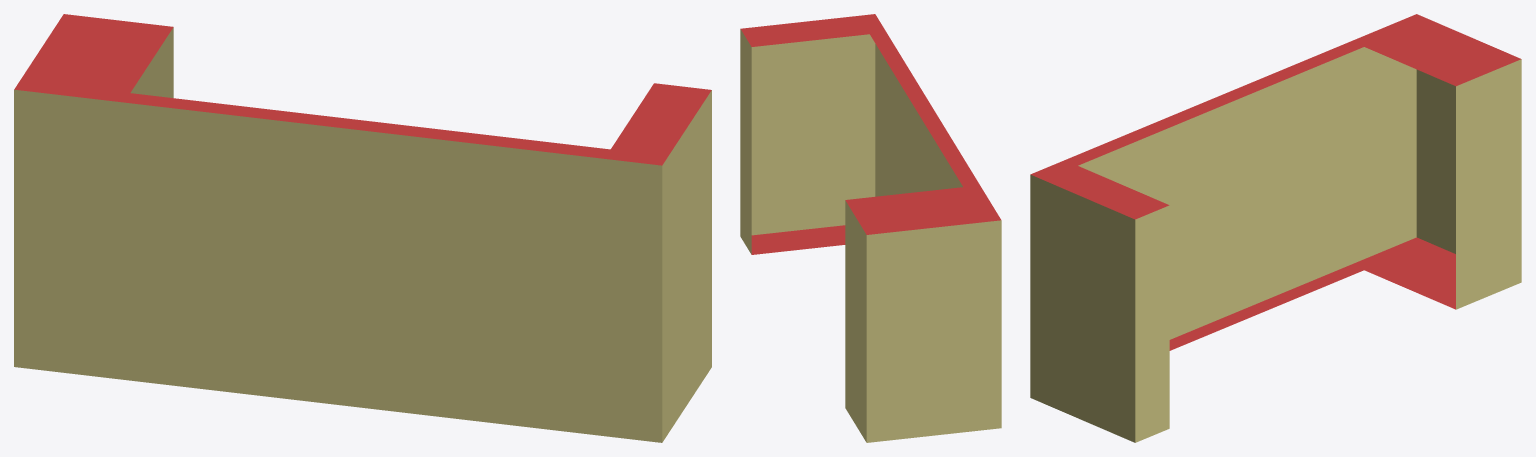
3 renders of one model, left to right at view 1: azimuth 30°, elevation 25°; view 2: azimuth 150°, elevation 25°; view 3: azimuth 270°, elevation 25°, orthographic. The views are drawn at different scales.
Visible parts, largest first — view 1: group_4, group_3; view 2: group_4, group_3, group_5; view 3: group_4, group_3, group_5.
Part boxes in pixels (bbox=[...]): group_4: bbox=[14, 27, 711, 442]; group_3: bbox=[14, 14, 711, 165]; group_4: bbox=[740, 29, 1001, 442]; group_3: bbox=[740, 14, 1000, 234]; group_5: bbox=[751, 225, 845, 254]; group_4: bbox=[1030, 47, 1521, 442]; group_3: bbox=[1030, 14, 1521, 219]; group_5: bbox=[1169, 237, 1455, 350].
Bounding box in the file's own units: 18.07 × 18.25 × 9.16.
